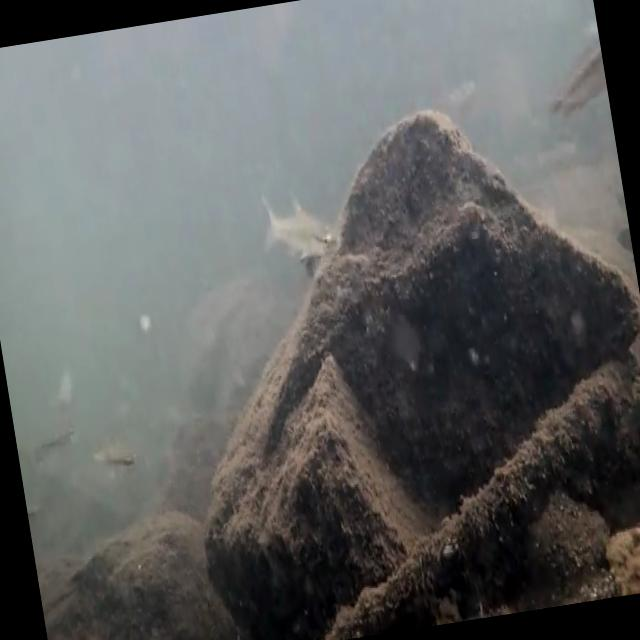Cakil Baligi: (248, 176, 343, 276), (85, 437, 147, 487)
